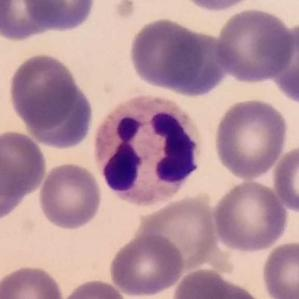Neutrophil: (90, 90, 209, 212)
RBC: (126, 15, 215, 97), (135, 193, 221, 271), (212, 96, 290, 180), (213, 7, 296, 85), (210, 178, 291, 254), (6, 51, 79, 130), (23, 77, 96, 151), (106, 231, 186, 298), (37, 160, 104, 232), (0, 129, 49, 198), (1, 11, 100, 43), (170, 266, 265, 299), (267, 20, 299, 106), (20, 0, 98, 34), (0, 0, 57, 43), (259, 239, 299, 299), (0, 263, 65, 299), (0, 146, 27, 227), (271, 142, 299, 216), (58, 277, 130, 299), (174, 0, 259, 14)
